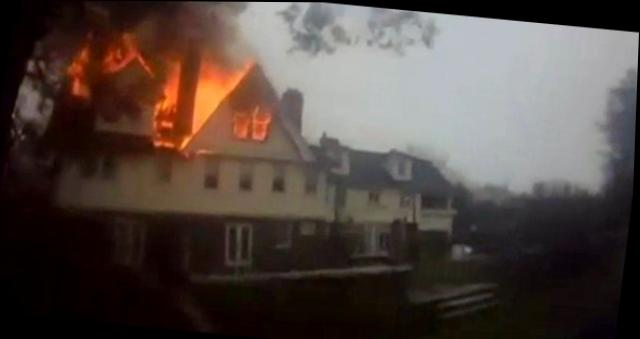fire: (48, 0, 299, 161)
